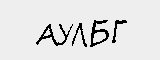А: (36, 23, 56, 46)
Б: (91, 17, 110, 46)
Г: (111, 17, 127, 44)
Л: (69, 21, 87, 49)
У: (57, 22, 72, 45)
